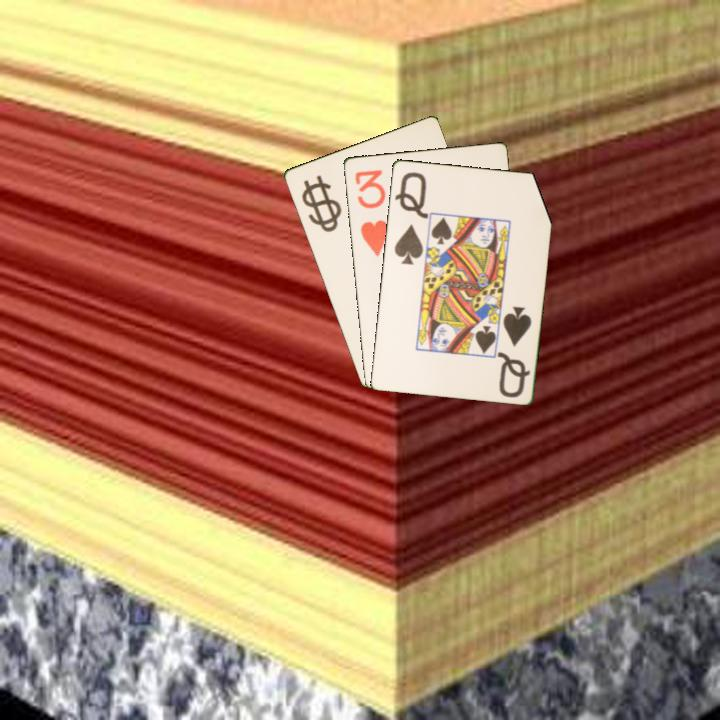3h: (351, 166, 391, 259)
JK: (301, 182, 337, 231)
Qs: (495, 303, 534, 400), (391, 168, 429, 267)
